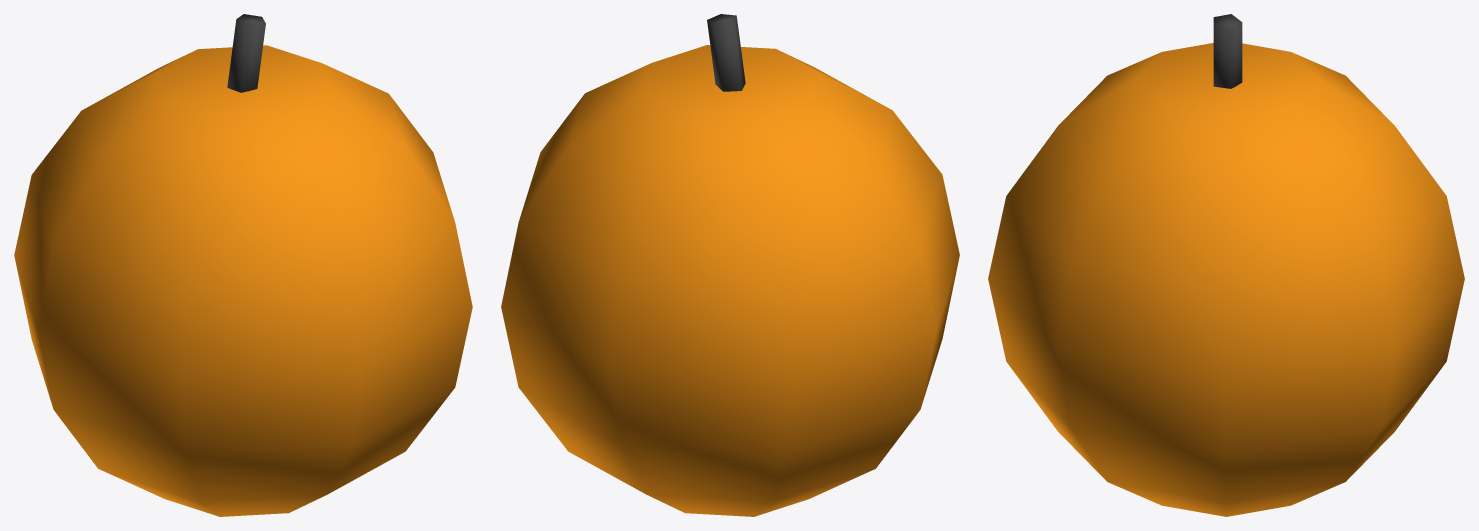
The model's file is fulloranges.fbx.
The picture shows the model from 3 angles, left to right: view 1: azimuth 30°, elevation 25°; view 2: azimuth 150°, elevation 25°; view 3: azimuth 270°, elevation 25°; orthographic projection.
Visible parts, largest first — view 1: Sphere; view 2: Sphere; view 3: Sphere.
Boxes of the visible parts, <box> form: Sphere: <box>14,14,472,516</box>; Sphere: <box>501,14,959,516</box>; Sphere: <box>988,14,1464,516</box>.
Bounding box in the file's own units: 2 × 2.21 × 2.
